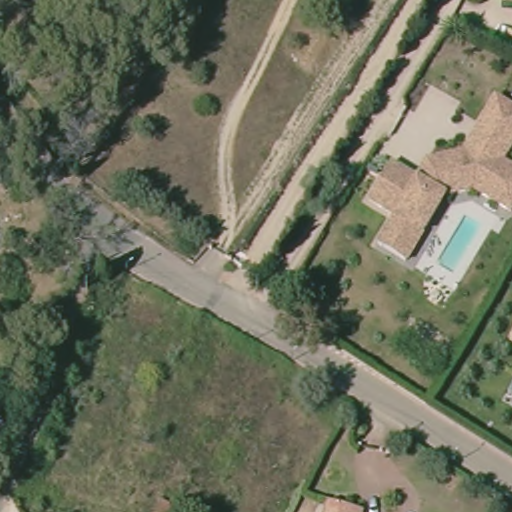pool: (437, 214, 486, 277)
